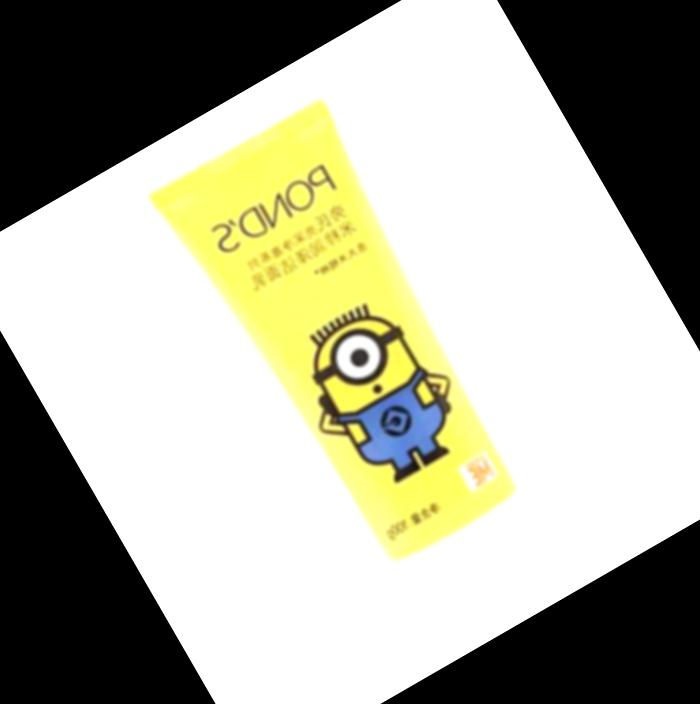cosmetic: (143, 94, 591, 658)
